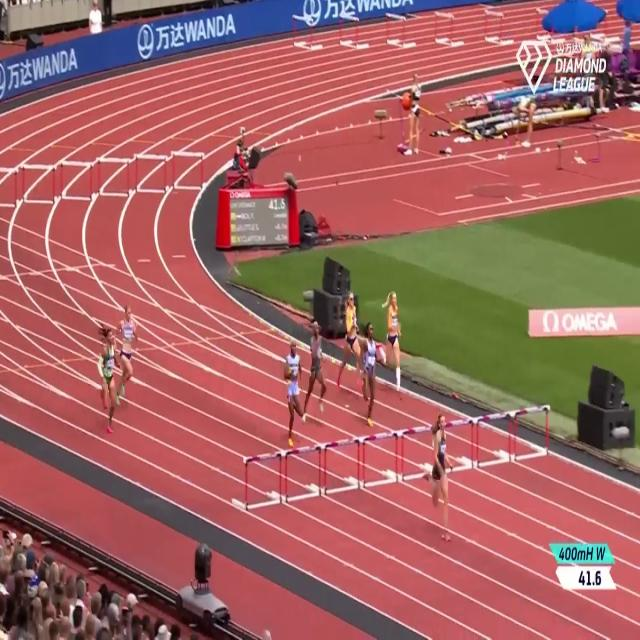athlete: (333, 285, 363, 403), (429, 404, 454, 545), (378, 281, 404, 409), (303, 314, 330, 437), (356, 314, 381, 431), (94, 323, 116, 439), (117, 303, 141, 408), (283, 340, 304, 453)
hurdle: (322, 426, 365, 496), (239, 448, 285, 512), (515, 402, 554, 472), (400, 423, 443, 484), (364, 427, 402, 491), (475, 405, 514, 466), (288, 442, 322, 508), (20, 158, 54, 213), (97, 153, 136, 199), (59, 157, 95, 206), (442, 415, 473, 470), (169, 146, 206, 192), (132, 148, 167, 196), (290, 12, 322, 56), (481, 11, 511, 55), (429, 12, 458, 51), (339, 9, 364, 54), (385, 13, 411, 54), (0, 163, 21, 209)
